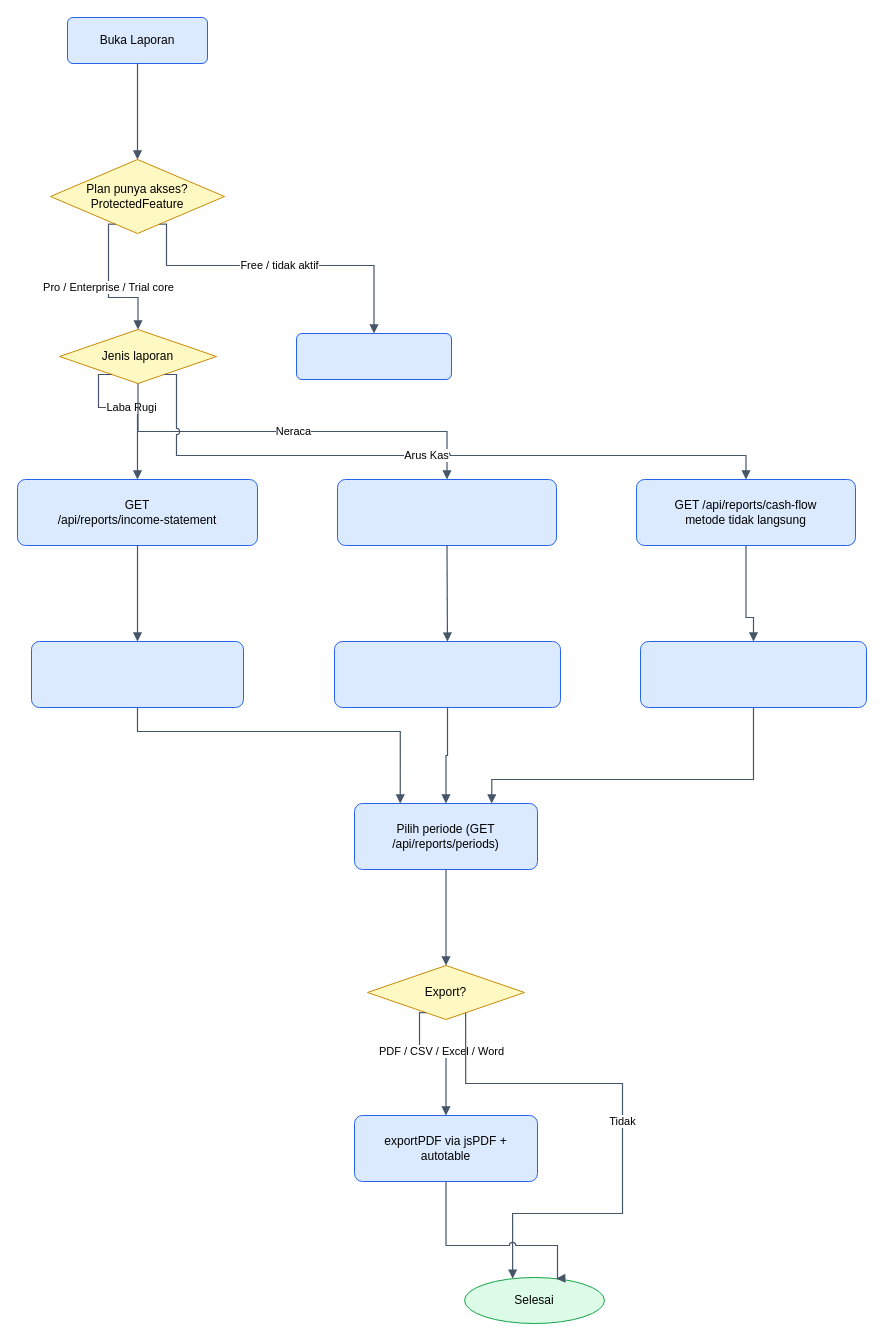
This 884x1341 diagram has some shape labels left out. Here are the shapes that lost their labels. From the top down, the centre of each, then its label:
At (x=374, y=356): "Paywall → Upgrade".
At (x=446, y=512): "GET /api/reports/balance-sheet".
At (x=137, y=674): "Pendapatan − Beban = Laba Bersih".
At (x=447, y=674): "Aset = Liabilitas + Ekuitas termasuk laba berjalan".
At (x=753, y=674): "Pisah Operasi / Investasi / Pendanaan".
